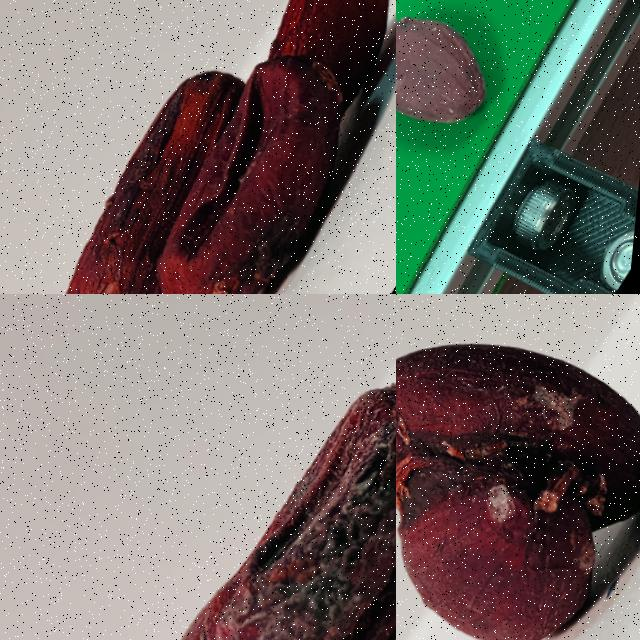Agglomerated_cocoabeans: (34, 294, 395, 639), (0, 0, 395, 293), (396, 294, 639, 639)
Fine_cocoabeans: (396, 0, 596, 226)
